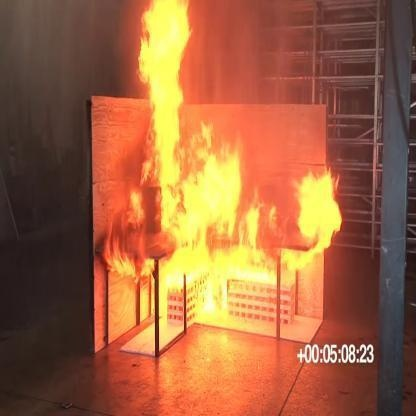fire: (102, 0, 340, 287)
